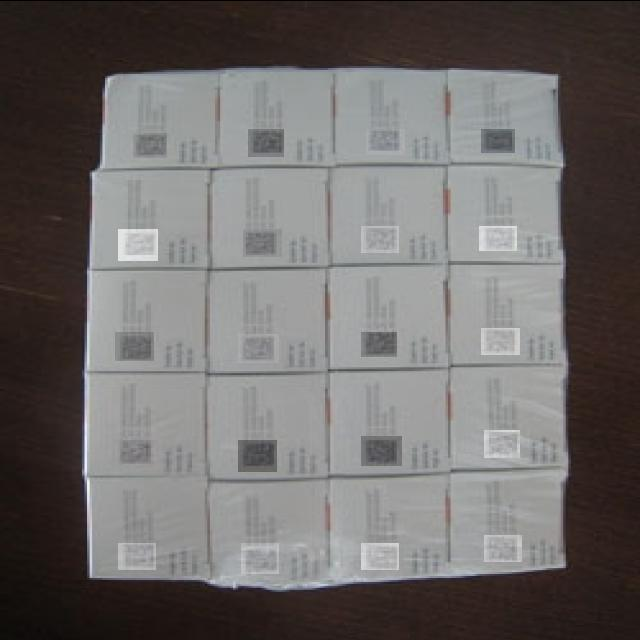Data-Matrix: (118, 228, 158, 260), (112, 437, 154, 467), (238, 439, 277, 471), (361, 435, 402, 465), (238, 333, 279, 362), (241, 542, 279, 573), (115, 331, 154, 360), (243, 228, 282, 256), (481, 327, 520, 354), (118, 542, 156, 569), (361, 542, 399, 569), (361, 225, 399, 252), (484, 534, 522, 561), (366, 128, 405, 154), (248, 128, 284, 156), (484, 429, 520, 457), (479, 225, 517, 250), (361, 331, 397, 356), (133, 132, 167, 157), (481, 128, 515, 152)
